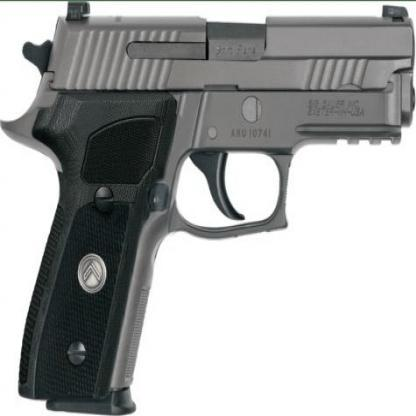Pistol: (0, 2, 416, 416)
